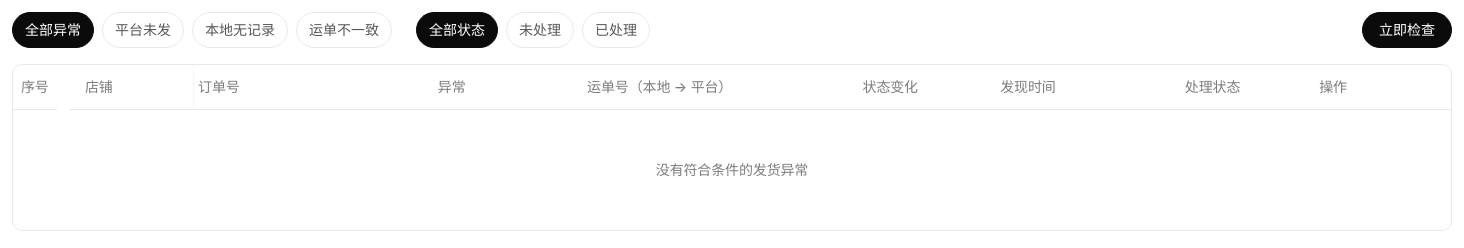
Scenario: 发货异常页的结果提示与控件 › 检查范围放在立即检查按钮的悬停说明里
Expected: the text "检查范围" is not shown
Focus the button "立即检查" at [1407, 30], box [1362, 12, 1452, 48]
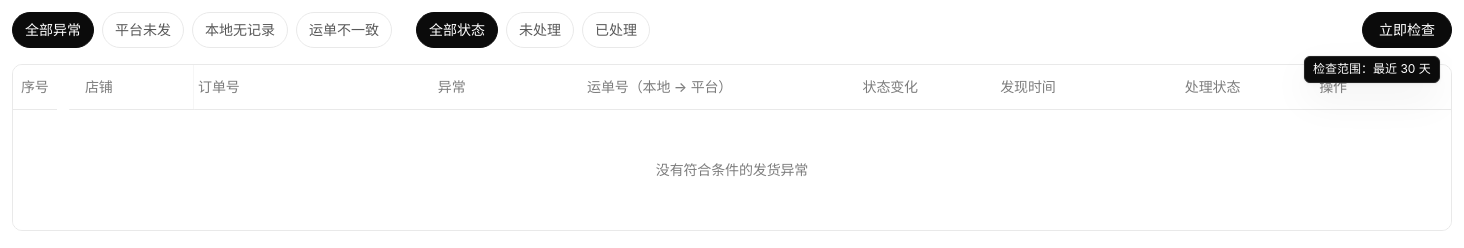
Now the tooltip reads "检查范围：最近 30 天", box [1313, 61, 1431, 76]
